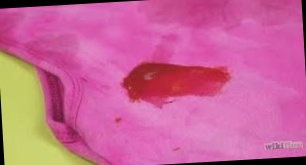lipstick: (118, 55, 236, 110), (114, 114, 124, 122), (170, 145, 181, 152)
